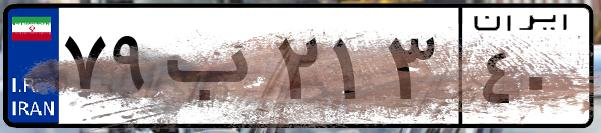0: (525, 38, 570, 115)
1: (330, 28, 385, 110)
2: (270, 28, 330, 110)
3: (385, 28, 445, 110)
4: (475, 38, 525, 113)
7: (57, 26, 110, 100)
9: (110, 28, 158, 98)
ب: (158, 20, 270, 120)
